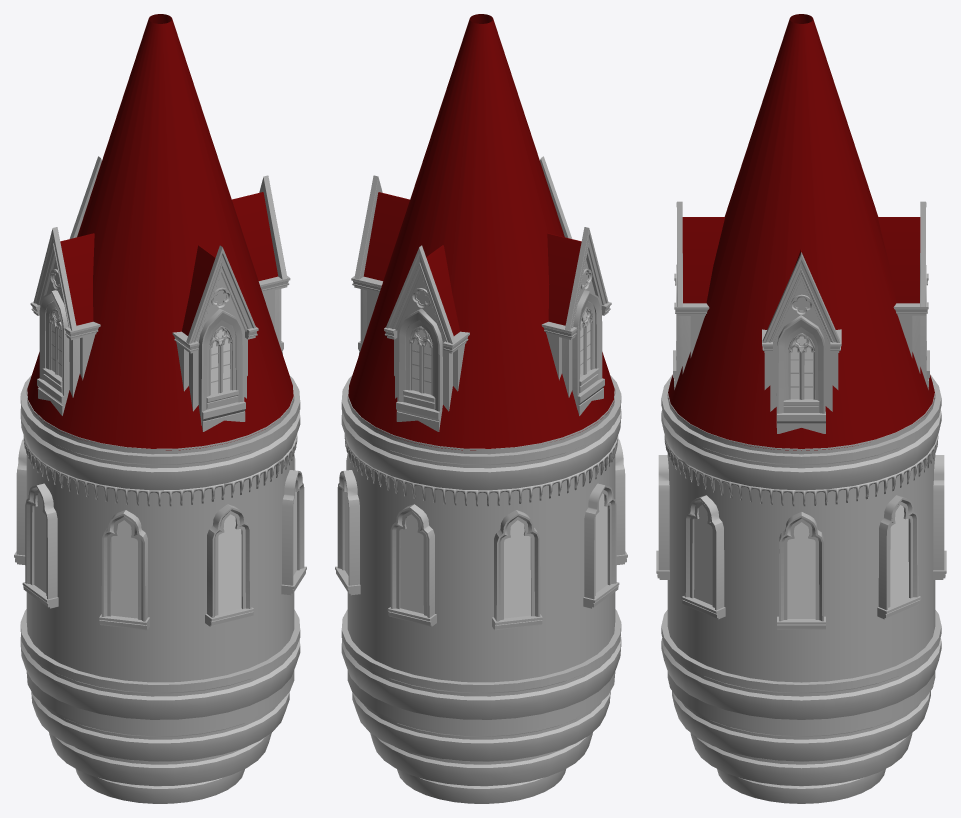
File: turret_002.glb
3 renders of one model, left to right at view 1: azimuth 30°, elevation 25°; view 2: azimuth 150°, elevation 25°; view 3: azimuth 270°, elevation 25°, orthographic.
Visible parts, largest first — view 1: turret_002; view 2: turret_002; view 3: turret_002.
Part boxes in pixels (x1,y1,x2,y2): turret_002: (14,14,306,803); turret_002: (335,14,627,803); turret_002: (656,14,946,803).
Bounding box in the file's own units: 0.9396 × 2.68 × 0.9396.
